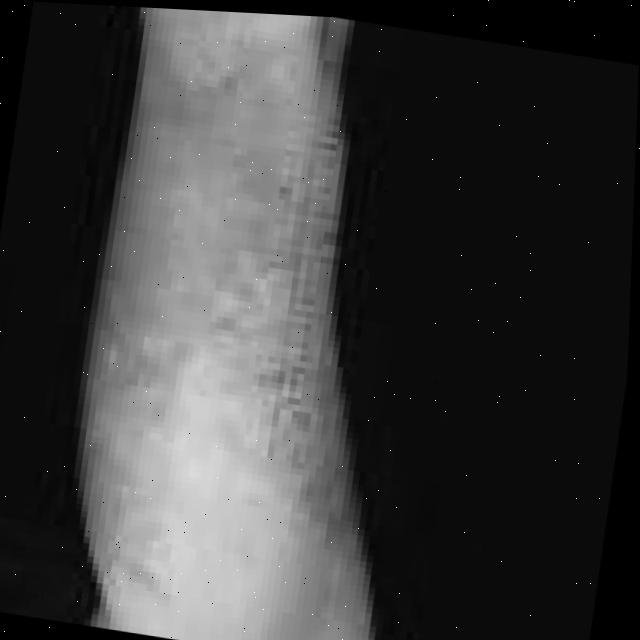Melasma: (112, 56, 338, 331)
